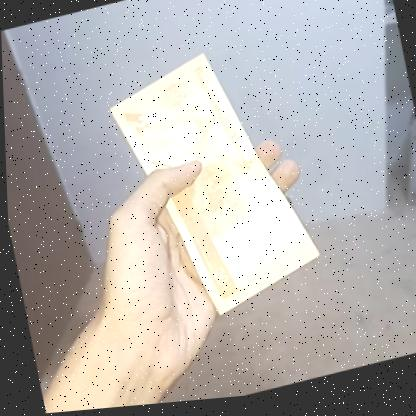vef_back: (100, 36, 325, 339)
